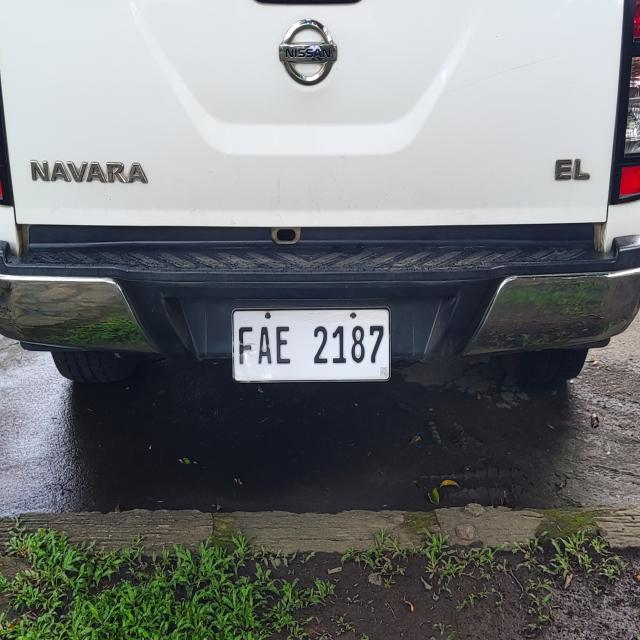plate: (230, 304, 394, 386)
